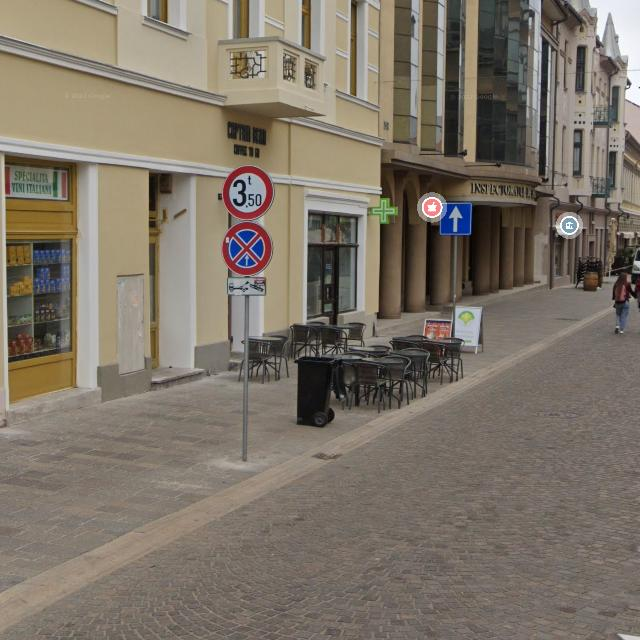forb_stopping: (222, 221, 274, 276)
forb_weight_over_3.5t: (222, 164, 274, 220)
info_one_way_traffic: (440, 202, 472, 235)
